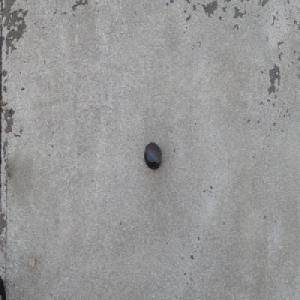FuelCap: (143, 141, 162, 170)
